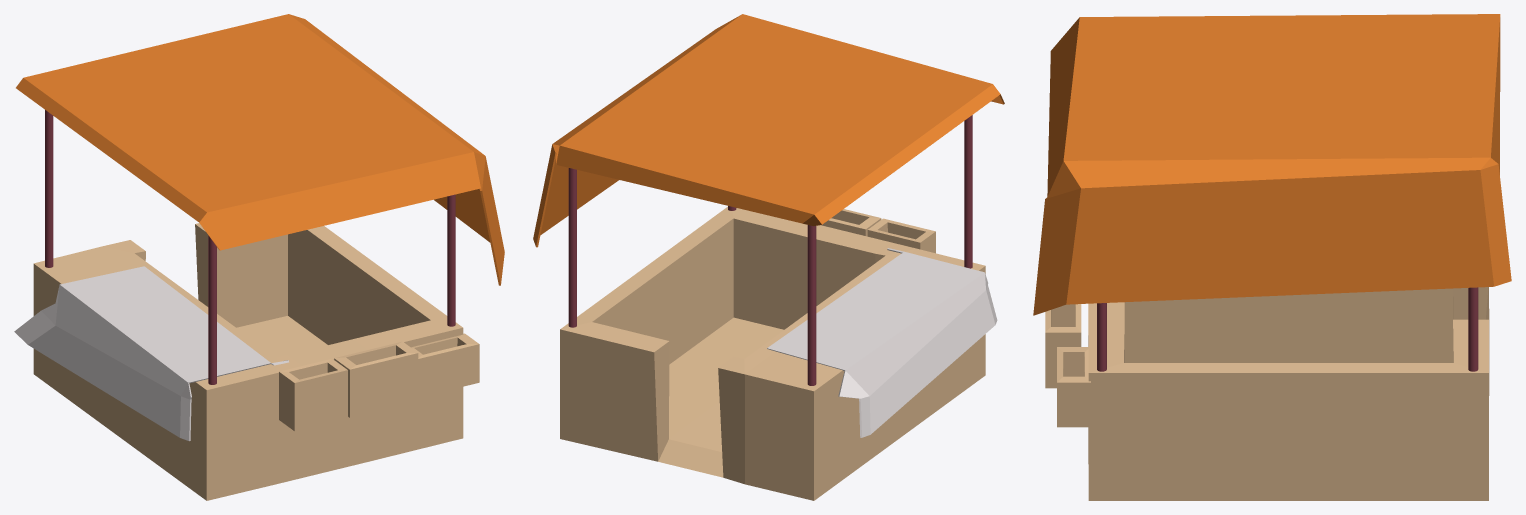
The model's file is shop.fbx.
3 views of the same model, side by side, from view 1: azimuth 30°, elevation 25°; view 2: azimuth 150°, elevation 25°; view 3: azimuth 270°, elevation 25° (orthographic). The views are drawn at different scales.
Visible parts, largest first — view 1: Plane; view 2: Plane; view 3: Plane.
Boxes of the visible parts, left/top/right/bottom form: Plane: left=14, top=14, right=504, bottom=500; Plane: left=533, top=14, right=1004, bottom=500; Plane: left=1033, top=14, right=1511, bottom=500.
Bounding box in the file's own units: 416 × 371 × 464.
